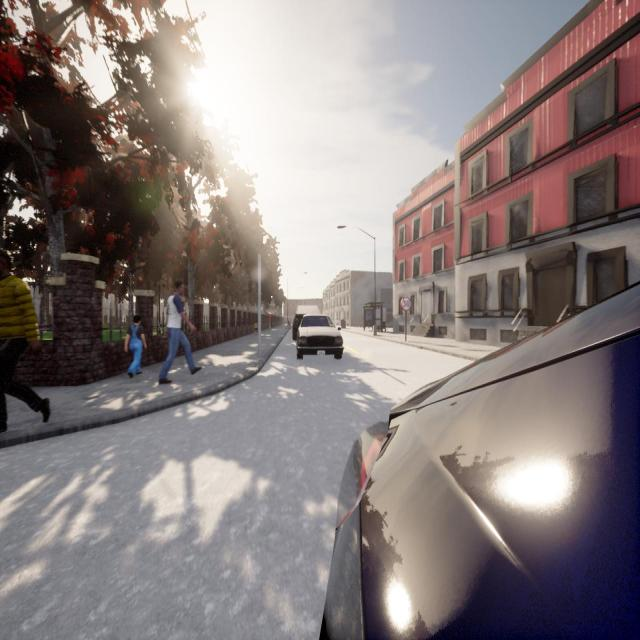Pedestrian: (0, 251, 50, 432), (158, 281, 202, 384), (124, 315, 146, 377), (252, 320, 260, 338)
Traffic_Signs: (400, 297, 412, 311)
Vehicle: (321, 280, 640, 640), (297, 316, 344, 359), (292, 304, 320, 341), (282, 367, 283, 369)
